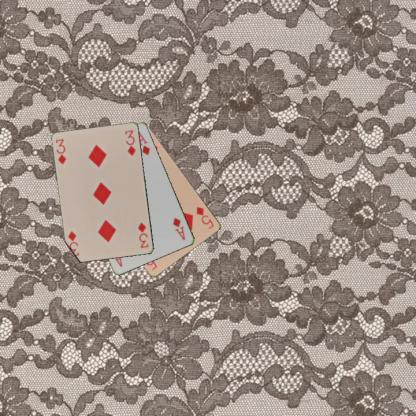3d: (135, 220, 150, 249), (54, 136, 68, 166)
5d: (193, 204, 216, 230)
Ad: (170, 215, 186, 241)
